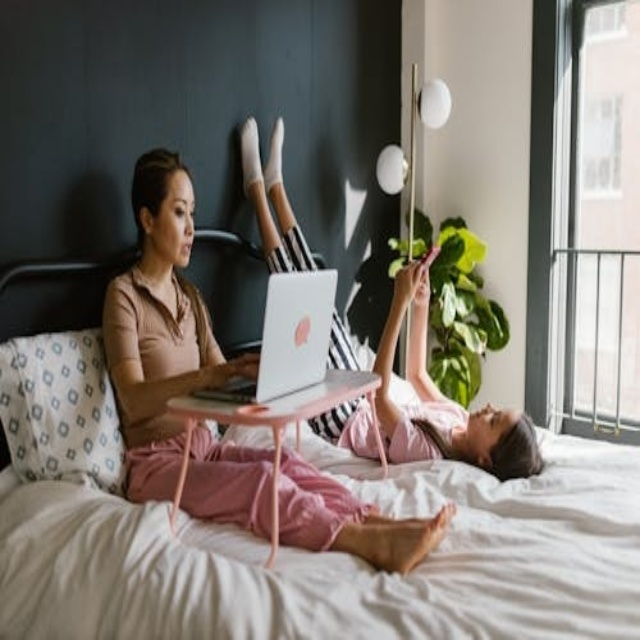Sin_gafas: (165, 192, 201, 227)
Sin_guantes: (387, 250, 428, 309)
Sin_mascara: (165, 238, 195, 261)
